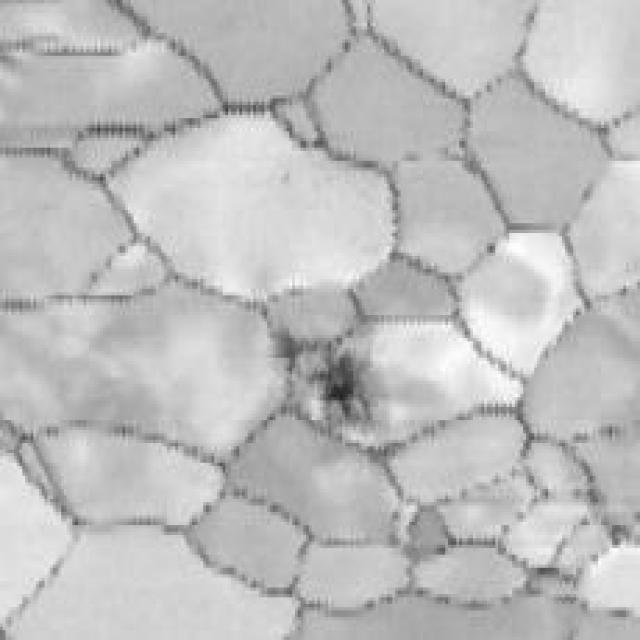good_void: (307, 347, 376, 432)
